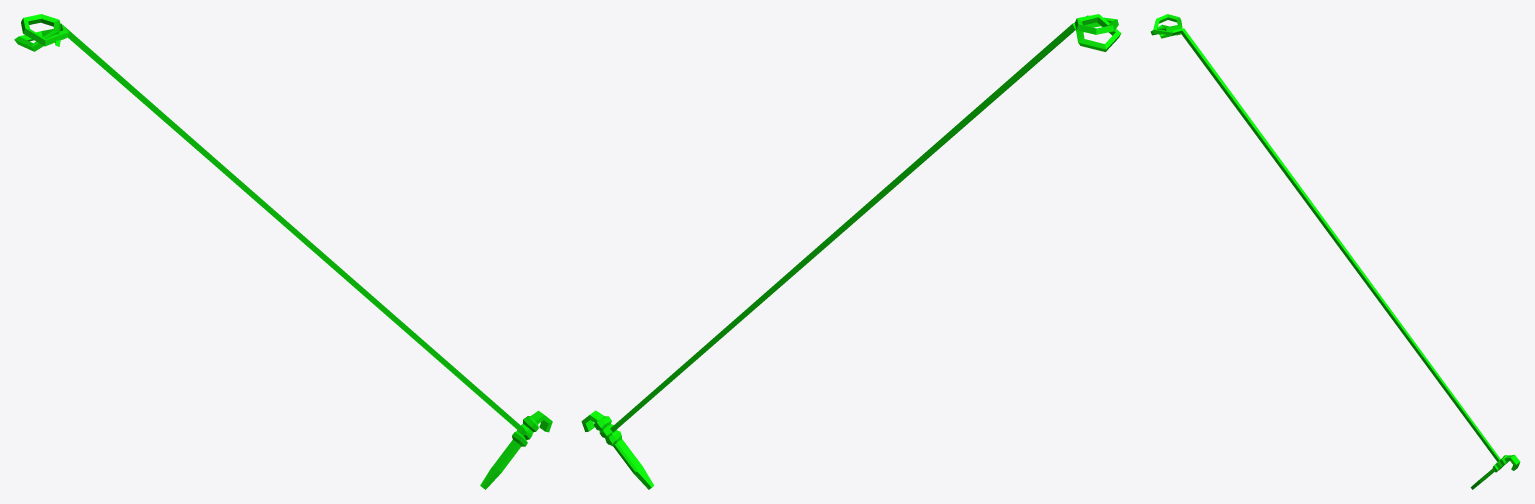
File: SM_Market_Stall_Rope_Short.fbx
3 views of the same model, side by side, from view 1: azimuth 30°, elevation 25°; view 2: azimuth 150°, elevation 25°; view 3: azimuth 330°, elevation 25° (orthographic). The views are drawn at different scales.
Parts seen in each view (by area): view 1: market-stall-rope-short; view 2: market-stall-rope-short; view 3: market-stall-rope-short.
Boxes of the visible parts, left/top/right/bottom form: market-stall-rope-short: left=14, top=14, right=552, bottom=489; market-stall-rope-short: left=581, top=14, right=1121, bottom=489; market-stall-rope-short: left=1150, top=14, right=1520, bottom=489.
Bounding box in the file's own units: 2.38 × 2.48 × 0.1951.
